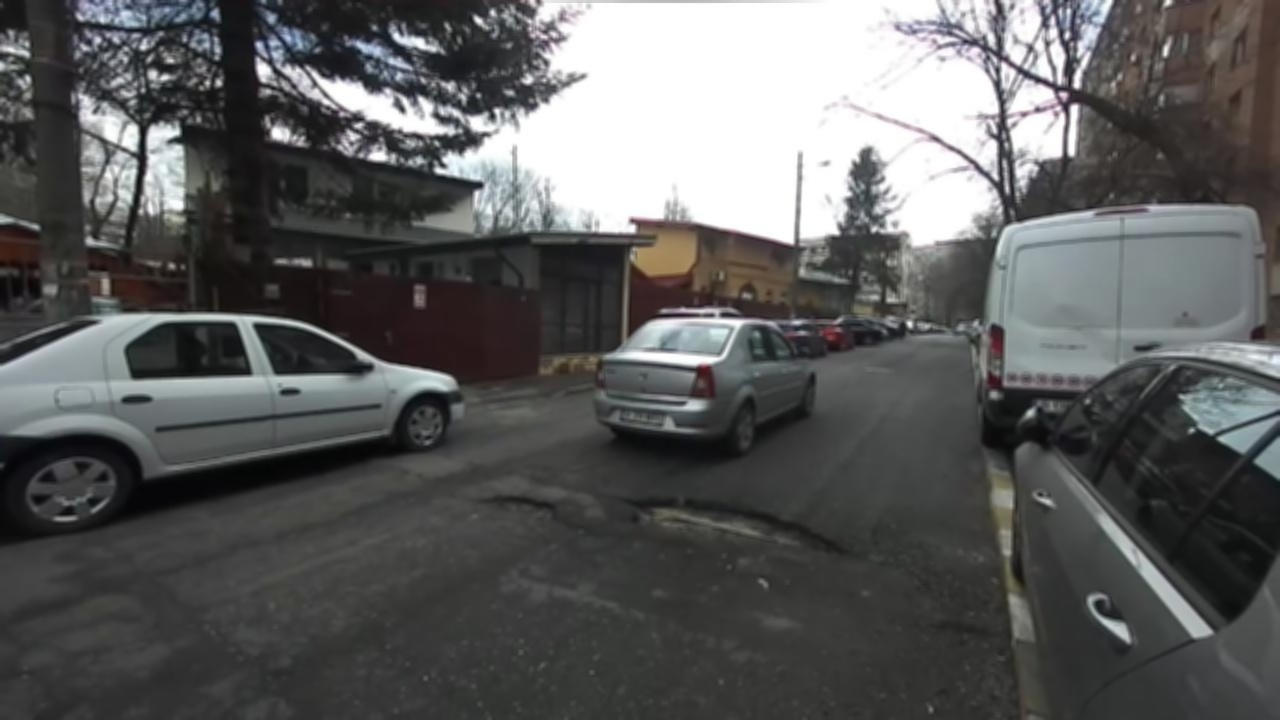pothole: (622, 489, 857, 563), (475, 489, 567, 527)
